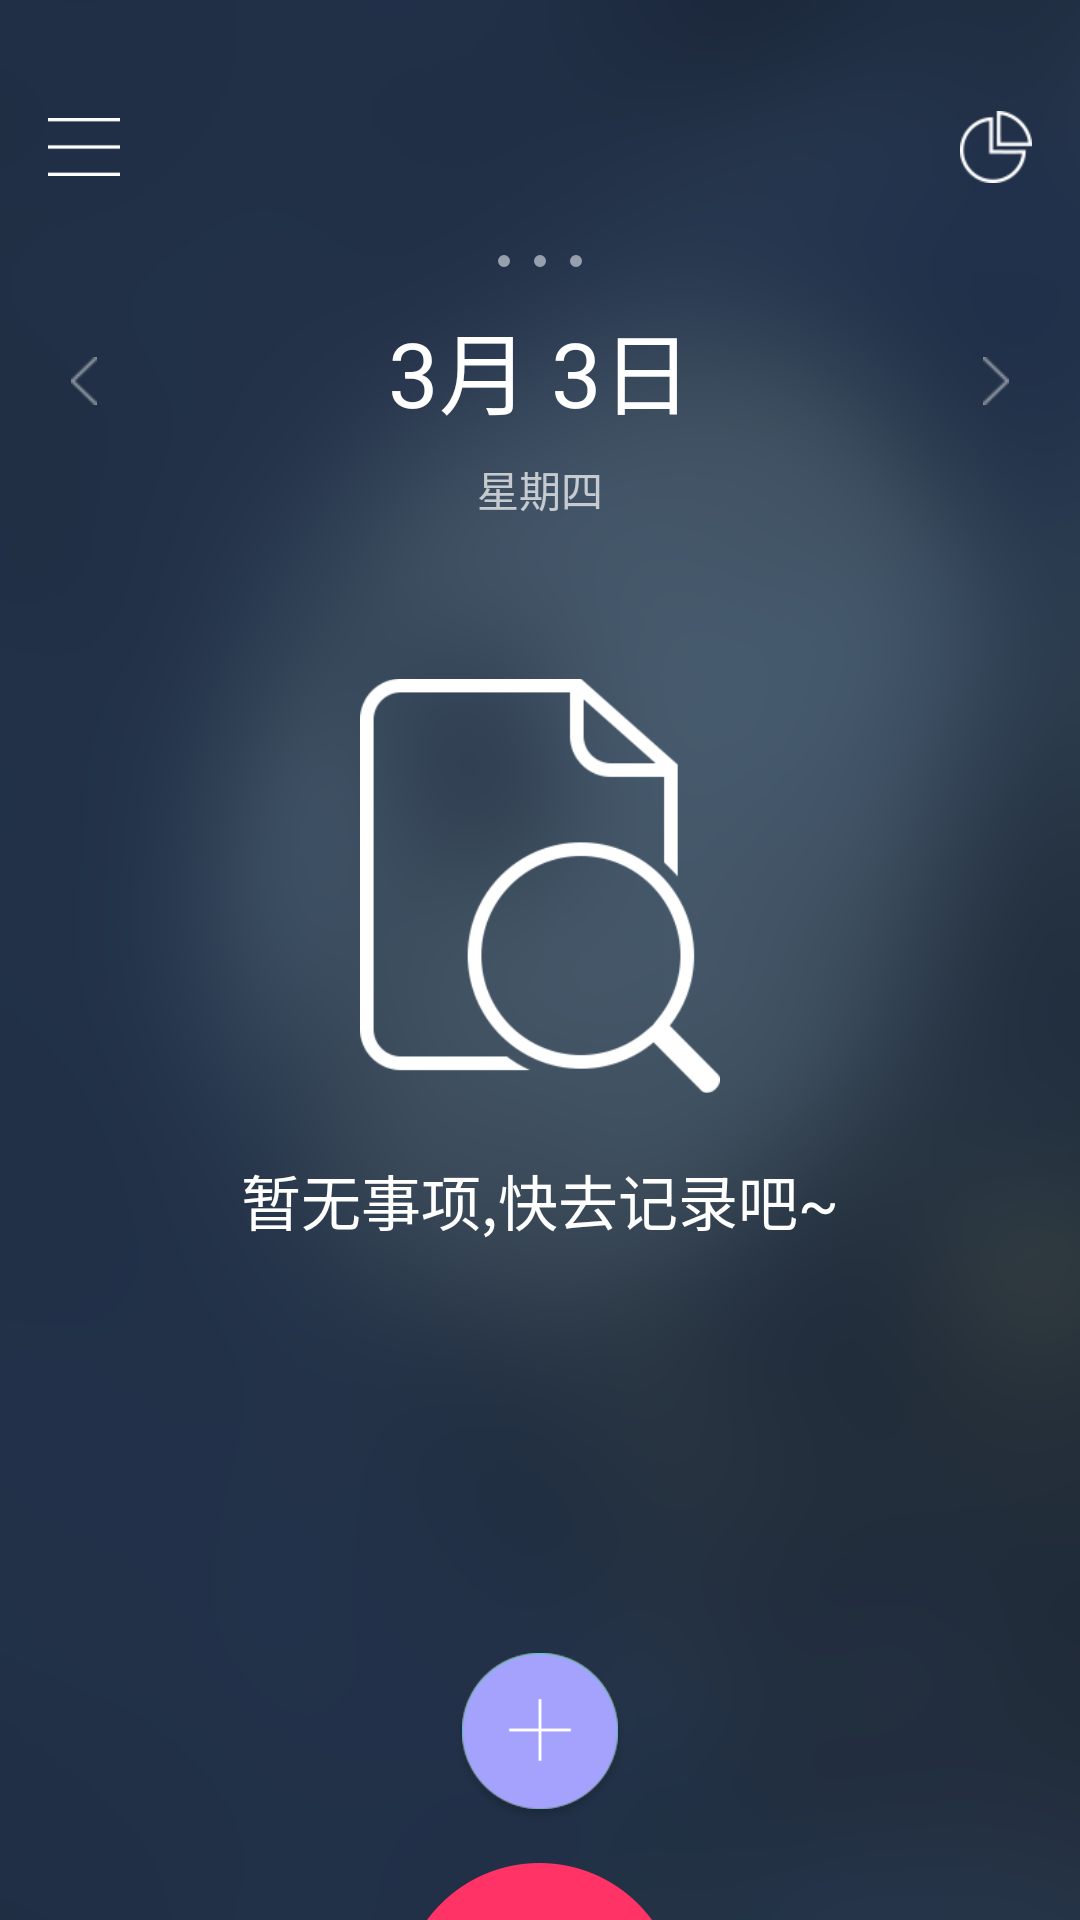

Named icons in this screenshot (1080*1920) and their centers, (x,y):
chevron: (84,381), (996,381)
menu: (84,147)
